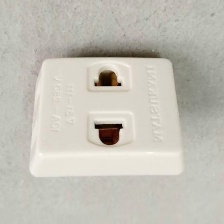three_eye_plug: (23, 49, 189, 183)
